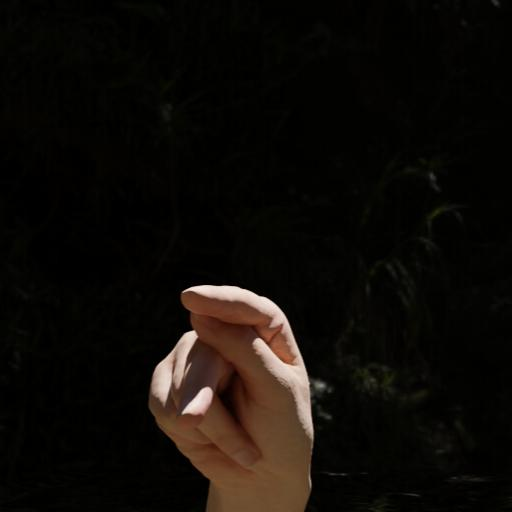P: (138, 270, 335, 512)
